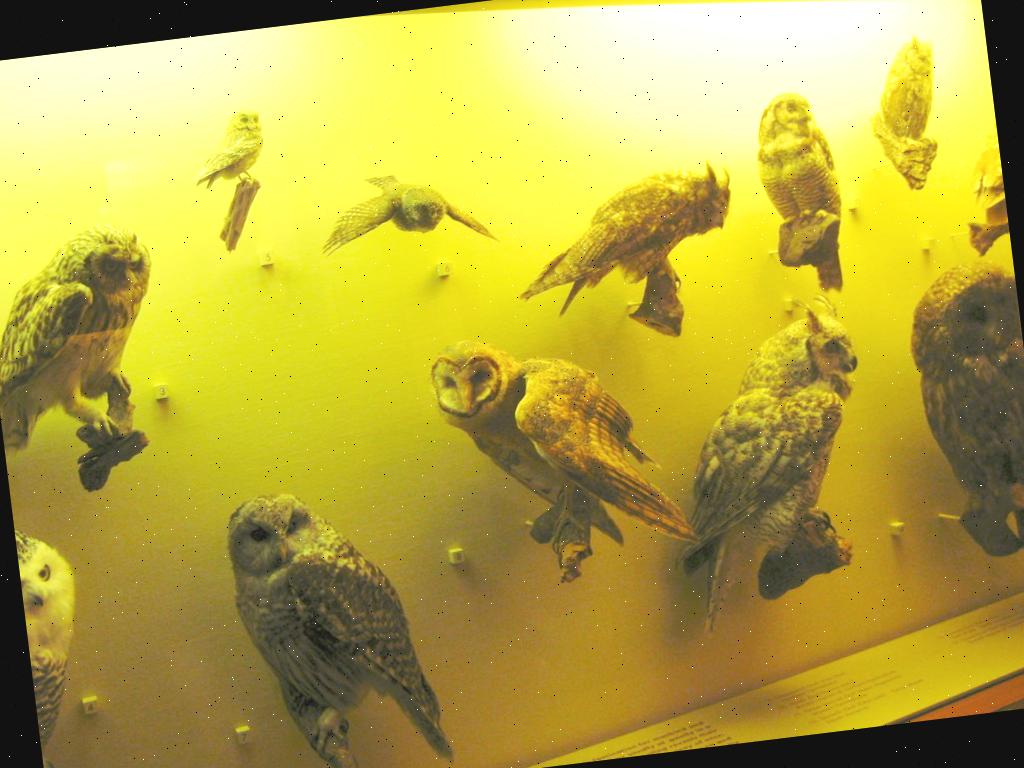Owl: (646, 295, 890, 635), (422, 302, 700, 573), (213, 478, 450, 768), (0, 210, 176, 459), (895, 255, 1024, 593), (506, 152, 748, 312), (742, 84, 858, 300), (17, 530, 101, 768), (312, 155, 496, 257), (868, 27, 938, 146), (184, 103, 270, 190), (962, 116, 1007, 224)
